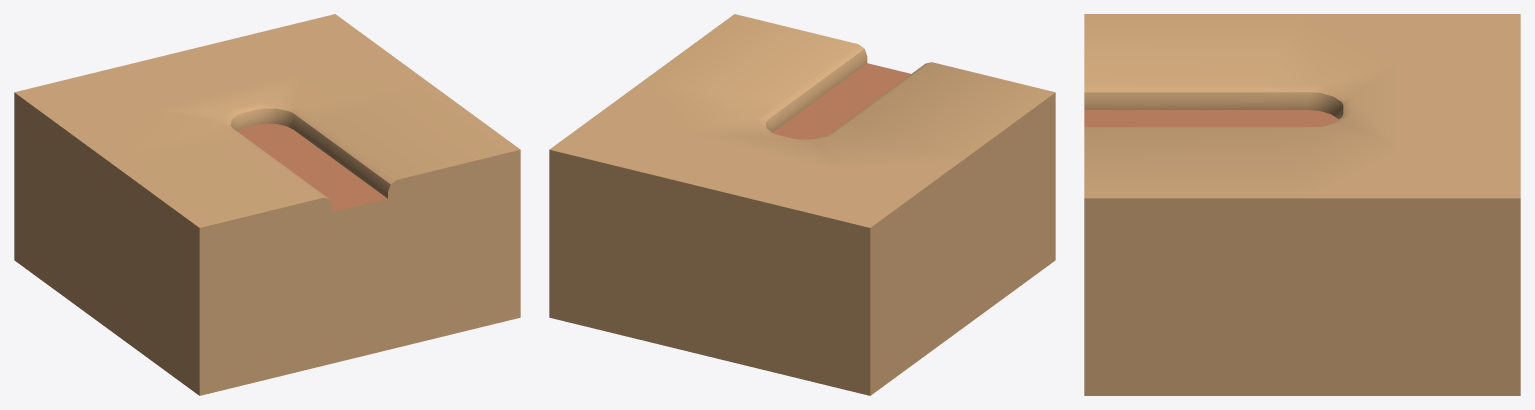
The model's file is kaykit-square-sand-roada.glb.
The picture shows the model from 3 angles, left to right: view 1: azimuth 30°, elevation 25°; view 2: azimuth 150°, elevation 25°; view 3: azimuth 270°, elevation 25°; orthographic projection. The views are drawn at different scales.
Parts seen in each view (by area): view 1: square_sand_roadA; view 2: square_sand_roadA; view 3: square_sand_roadA.
Part boxes in pixels (bbox=[...]): square_sand_roadA: bbox=[14, 14, 520, 395]; square_sand_roadA: bbox=[549, 14, 1055, 395]; square_sand_roadA: bbox=[1084, 14, 1520, 395].
Bounding box in the file's own units: 2 × 0.9998 × 2.
